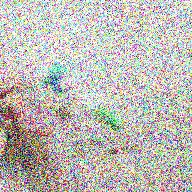휴티렌정: (93, 108, 124, 132)
